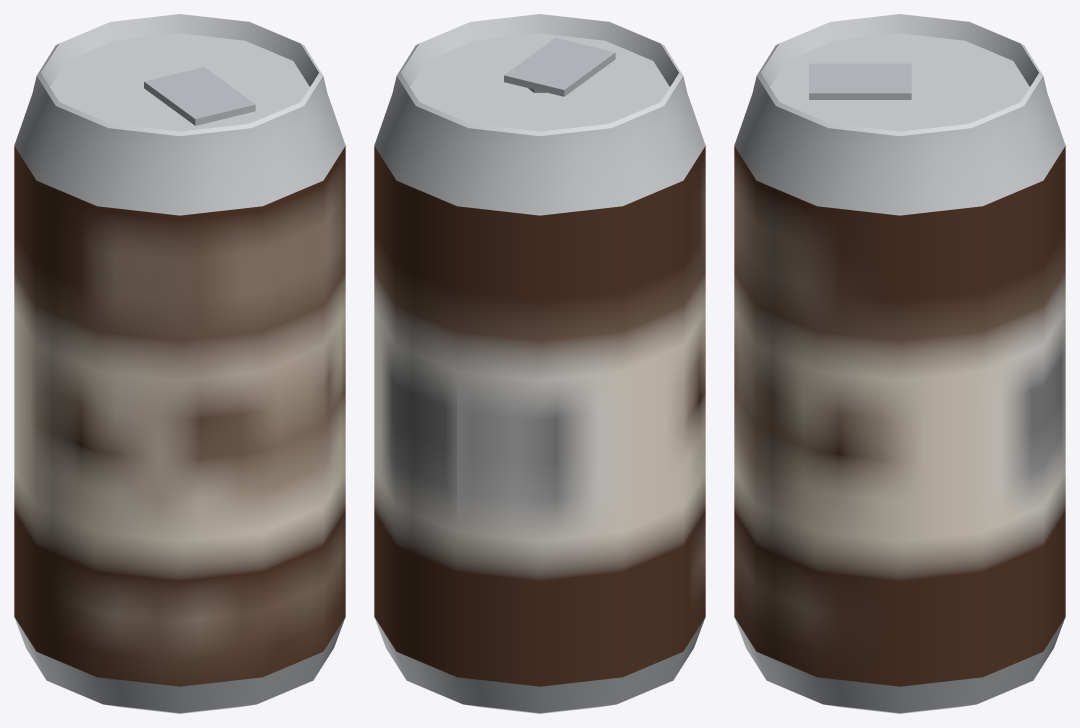
File: SC_Prod_Coffee_Can.gltf
3 views of the same model, side by side, from view 1: azimuth 30°, elevation 25°; view 2: azimuth 150°, elevation 25°; view 3: azimuth 270°, elevation 25° (orthographic).
Parts seen in each view (by area): view 1: SC_Prod_Coffee_Can; view 2: SC_Prod_Coffee_Can; view 3: SC_Prod_Coffee_Can.
Part boxes in pixels (left/top/right/bottom): SC_Prod_Coffee_Can: left=14, top=14, right=345, bottom=713; SC_Prod_Coffee_Can: left=374, top=14, right=705, bottom=713; SC_Prod_Coffee_Can: left=734, top=14, right=1065, bottom=713.
Bounding box in the file's own units: 0.053 × 0.104 × 0.053.
Materials: 2 (2 with a texture image).
